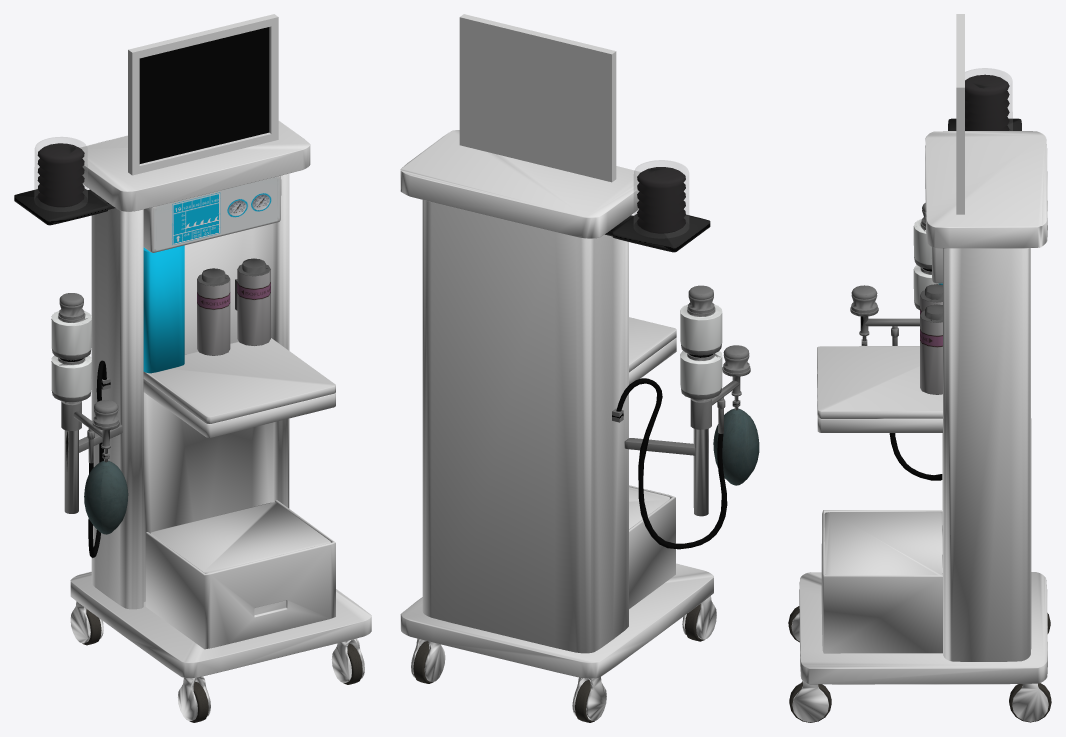
3 views of the same model, side by side, from view 1: azimuth 30°, elevation 25°; view 2: azimuth 150°, elevation 25°; view 3: azimuth 270°, elevation 25° (orthographic). The views are drawn at different scales.
Parts seen in each view (by area): view 1: EM-3a; view 2: EM-3a; view 3: EM-3a.
Part boxes in pixels (<box>): EM-3a: <box>14,14,371,722</box>; EM-3a: <box>400,14,759,722</box>; EM-3a: <box>788,14,1051,722</box>.
Bounding box in the file's own units: 75.06 × 170 × 63.92.
Materials: 10 (5 with a texture image).
